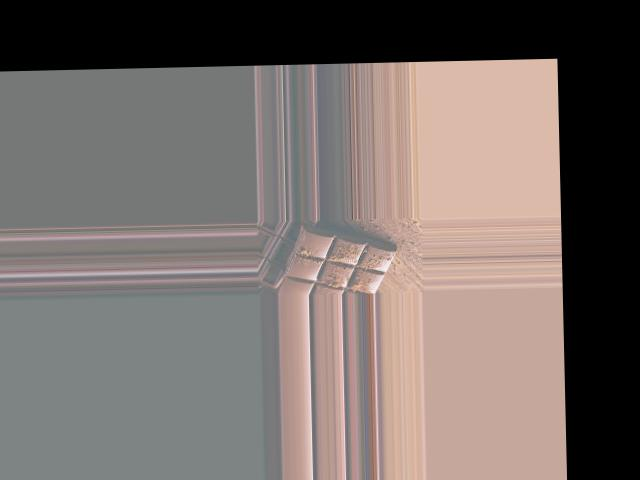chocolate: (276, 224, 403, 294)
